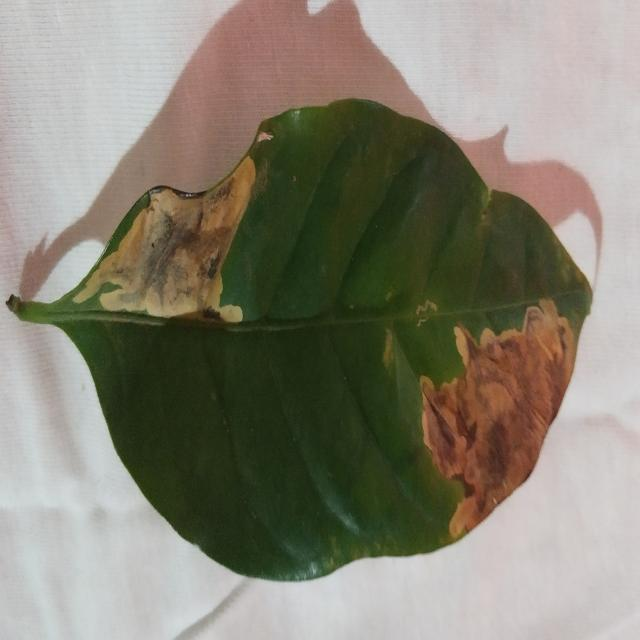Plaga-Minador: (12, 100, 595, 585)
